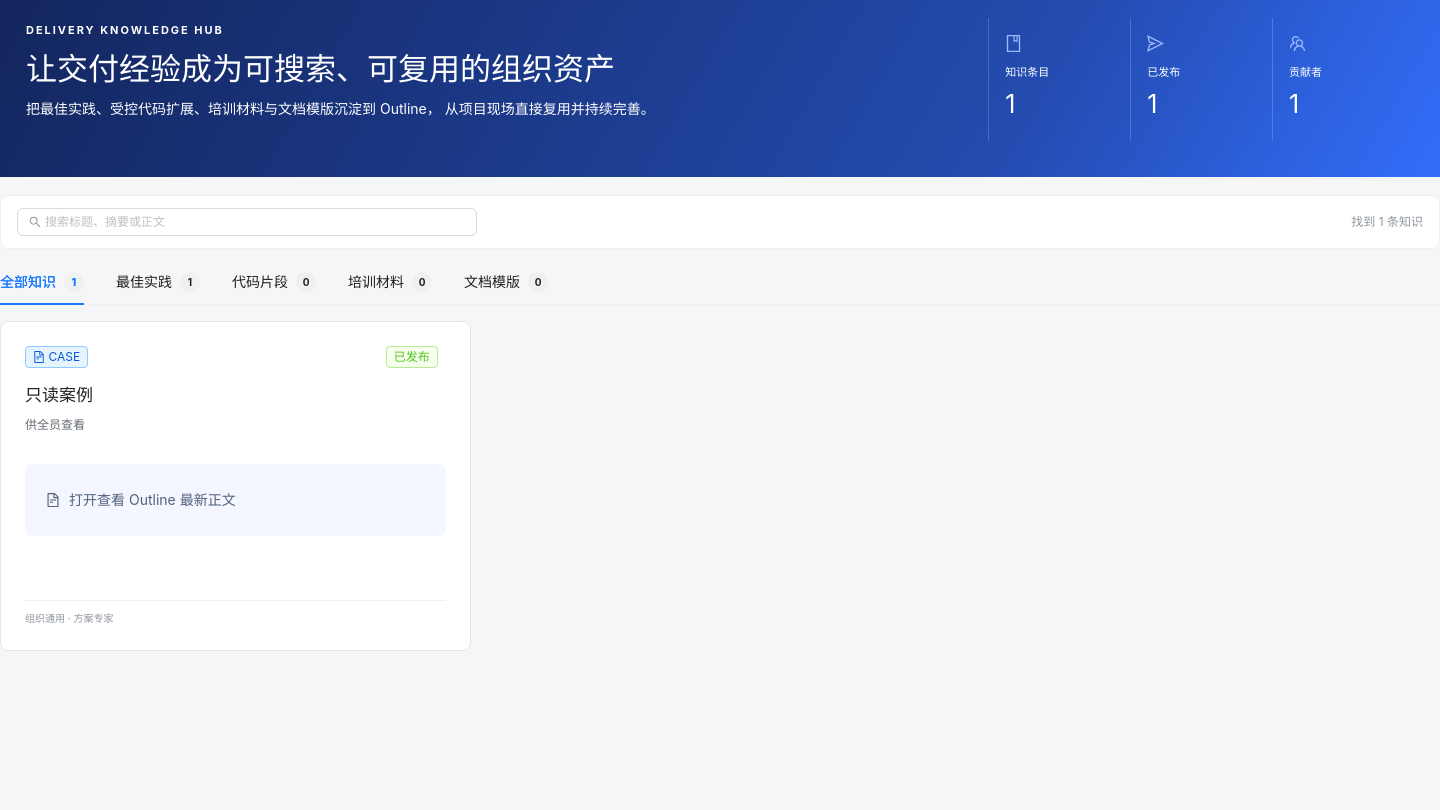
Test: 只读用户只能查看和导出知识文档
What coordinates should you click on to do the following:
click the heading "只读案例"
I would click on:
 (59, 395)
Its box is [25, 385, 93, 405].
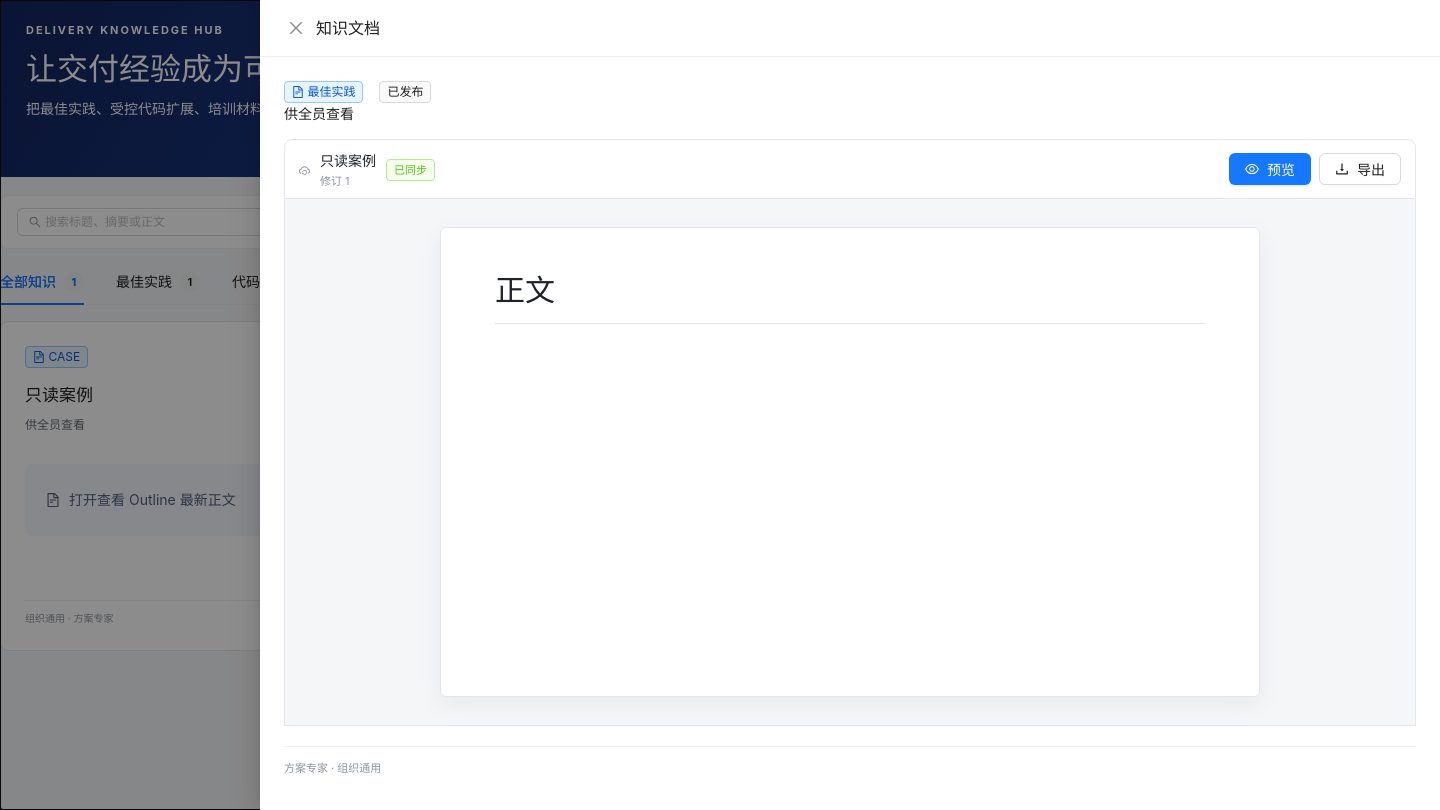
Now the heading "正文" is shown, box [495, 270, 1205, 324]
Now the button "导出" is shown, box [1319, 153, 1401, 185]
